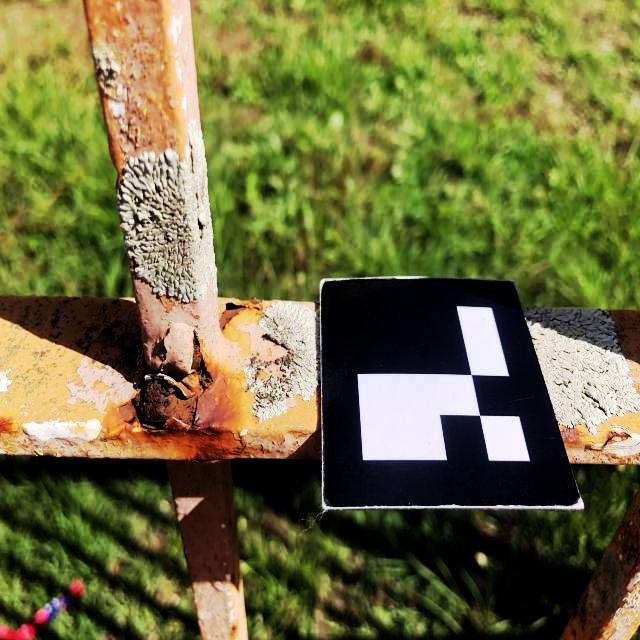Corrosion: (108, 330, 230, 465), (219, 303, 252, 333), (602, 432, 632, 448), (560, 427, 578, 443), (0, 419, 11, 429), (230, 574, 235, 586), (231, 625, 237, 632)
